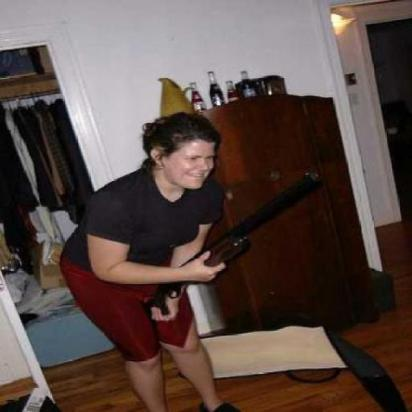Gun: (155, 173, 325, 326)
